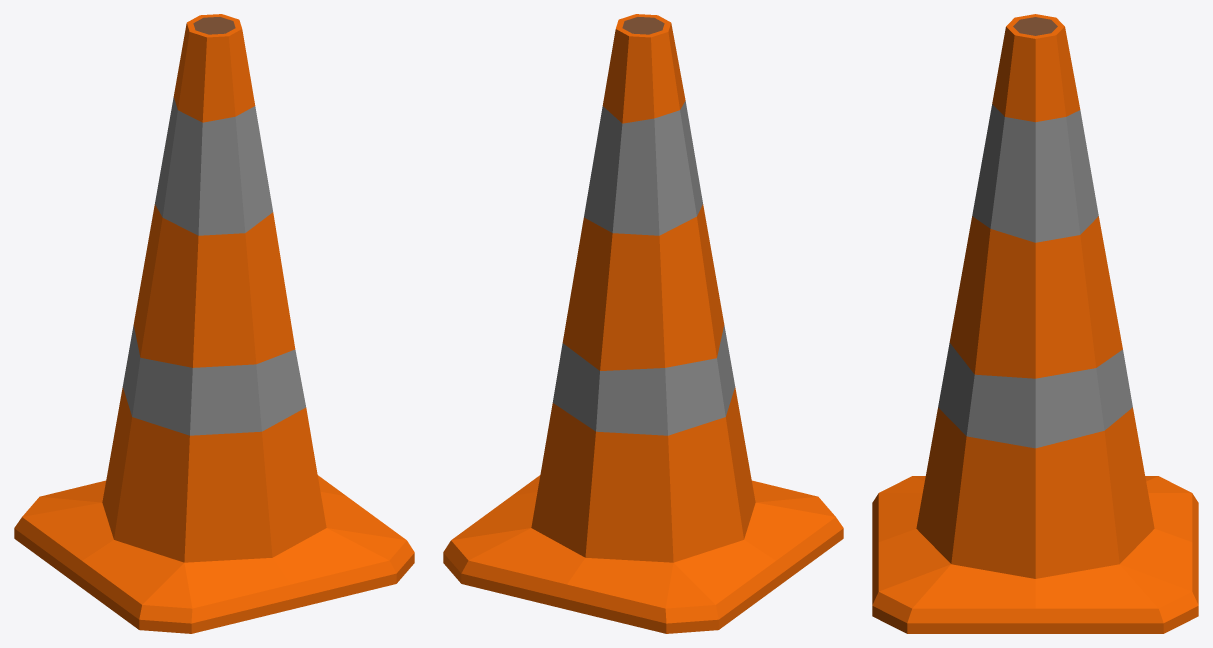
File: SM_Prop_Cone_01.fbx
3 views of the same model, side by side, from view 1: azimuth 30°, elevation 25°; view 2: azimuth 150°, elevation 25°; view 3: azimuth 270°, elevation 25° (orthographic). The views are drawn at different scales.
Visible parts, largest first — view 1: SM_Prop_Cone_01; view 2: SM_Prop_Cone_01; view 3: SM_Prop_Cone_01.
Part boxes in pixels (bbox=[...]): SM_Prop_Cone_01: bbox=[14, 14, 414, 633]; SM_Prop_Cone_01: bbox=[443, 14, 843, 633]; SM_Prop_Cone_01: bbox=[872, 14, 1198, 633].
Size of the model in its own units: 52.51 by 95.59 by 52.51.
